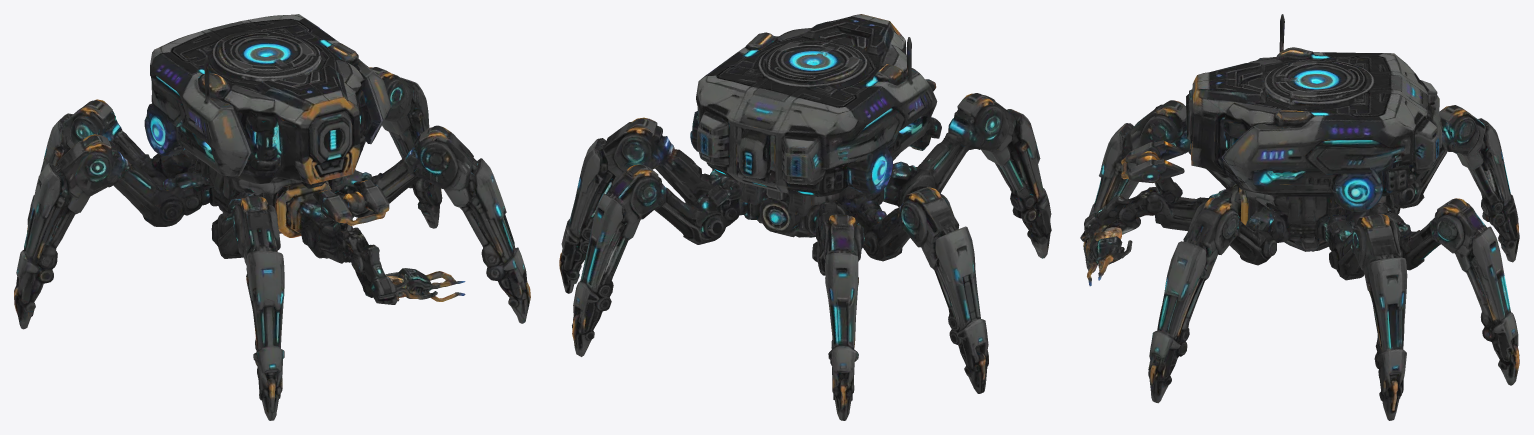
The model's file is eoncity_m4_maintenance_specialist_static.b980213a6f6b.glb.
The picture shows the model from 3 angles, left to right: view 1: azimuth 30°, elevation 25°; view 2: azimuth 150°, elevation 25°; view 3: azimuth 270°, elevation 25°; orthographic projection. The views are drawn at different scales.
Parts seen in each view (by area): view 1: Mesh1.0; view 2: Mesh1.0; view 3: Mesh1.0.
Boxes of the visible parts, left/top/right/bottom form: Mesh1.0: left=14, top=14, right=530, bottom=420; Mesh1.0: left=559, top=14, right=1051, bottom=420; Mesh1.0: left=1080, top=14, right=1519, bottom=420.
Size of the model in its own units: 1.9 by 1.21 by 1.77.
Materials: 1 (1 with a texture image).
